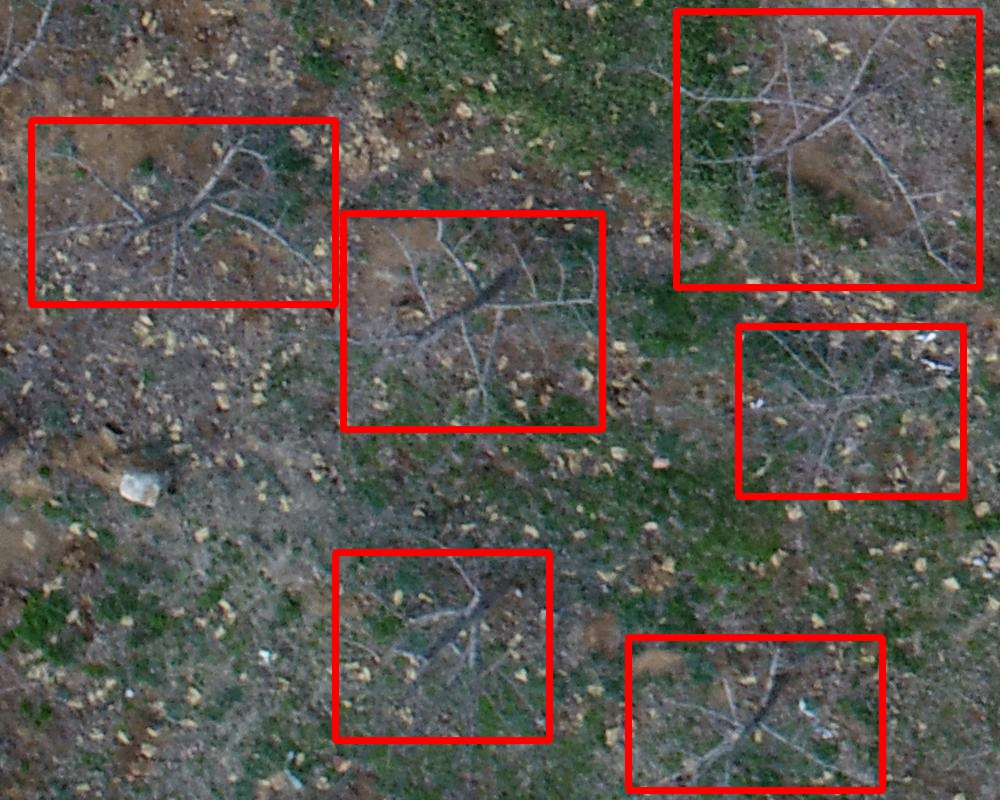apple: (676, 11, 979, 287), (343, 213, 602, 429), (31, 120, 335, 304), (335, 552, 549, 740), (628, 637, 882, 790), (738, 326, 963, 496)
